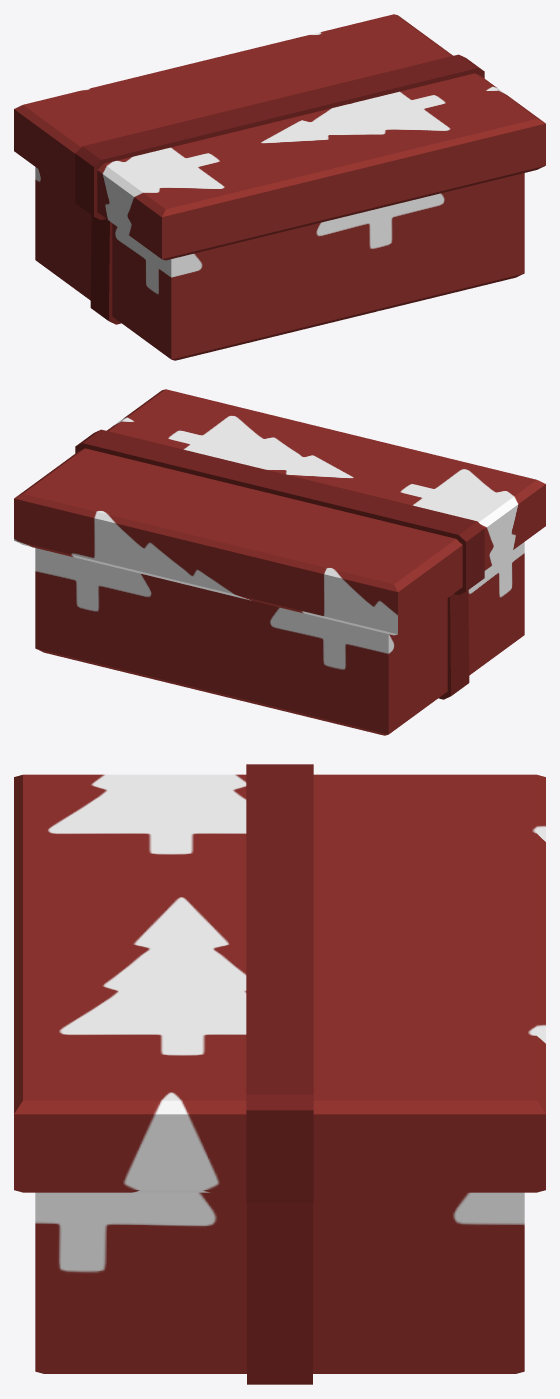
Rendered from PresentBox_RectangularMedium_01.fbx.
3 views of the same model, one above another, from view 1: azimuth 30°, elevation 25°; view 2: azimuth 150°, elevation 25°; view 3: azimuth 270°, elevation 25° (orthographic). The views are drawn at different scales.
Parts seen in each view (by area): view 1: PresentBox_RectangularMedium_01_Top, PresentBox_RectangularMedium_01; view 2: PresentBox_RectangularMedium_01_Top, PresentBox_RectangularMedium_01; view 3: PresentBox_RectangularMedium_01_Top, PresentBox_RectangularMedium_01.
Boxes of the visible parts, x1,y1,x2,y2 form: PresentBox_RectangularMedium_01_Top: [14, 14, 545, 260]; PresentBox_RectangularMedium_01: [35, 167, 524, 360]; PresentBox_RectangularMedium_01_Top: [14, 389, 545, 635]; PresentBox_RectangularMedium_01: [35, 542, 524, 735]; PresentBox_RectangularMedium_01_Top: [14, 764, 545, 1202]; PresentBox_RectangularMedium_01: [35, 1192, 524, 1384].
Bounding box in the file's own units: 0.3795 × 0.1564 × 0.2486.
